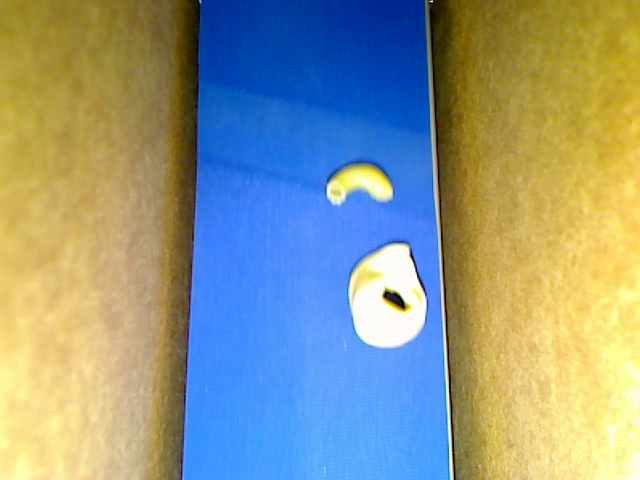elbow: (325, 163, 394, 204)
tortellini: (349, 243, 425, 348)
